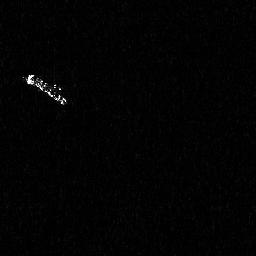ship: (20, 71, 69, 107)
